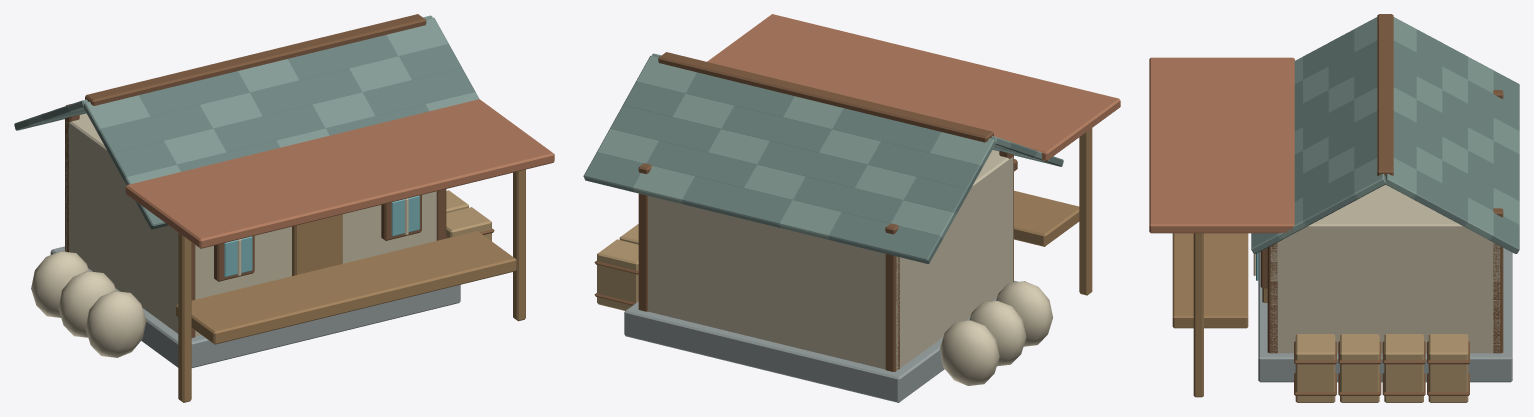
File: market.glb
The picture shows the model from 3 angles, left to right: view 1: azimuth 30°, elevation 25°; view 2: azimuth 150°, elevation 25°; view 3: azimuth 270°, elevation 25°; orthographic projection. The views are drawn at different scales.
Visible parts, largest first — view 1: Model; view 2: Model; view 3: Model.
Boxes of the visible parts, box(x1,y1,x2,y2) form: Model: box(14, 14, 554, 402); Model: box(583, 14, 1120, 402); Model: box(1149, 14, 1519, 402).
Bounding box in the file's own units: 3.72 × 2.16 × 3.18.
